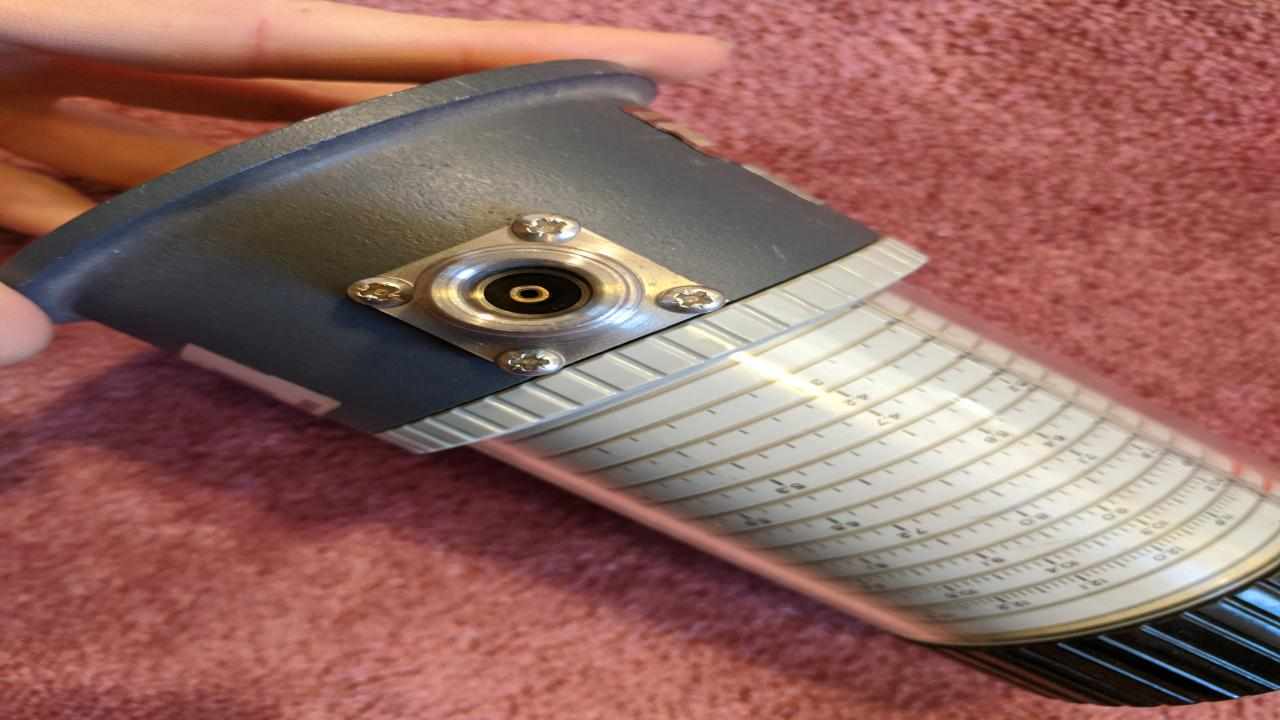CRS: (492, 345, 565, 379), (344, 276, 412, 308), (509, 212, 580, 242), (658, 284, 724, 316)
